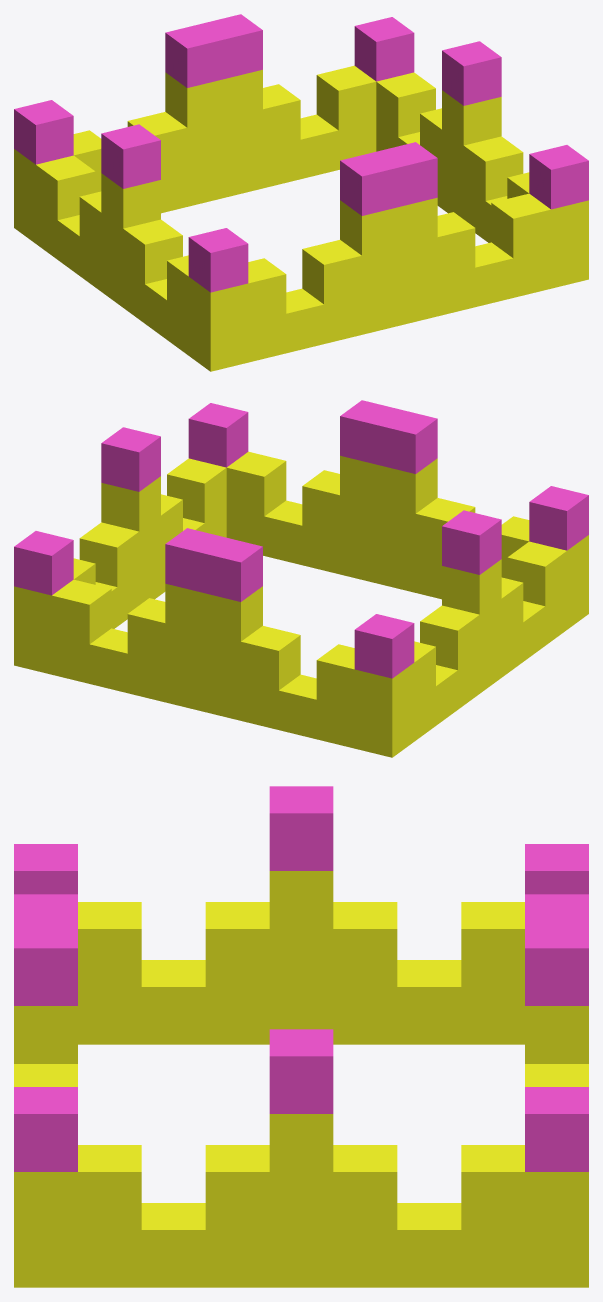
Rendered from HadaNivel5-1.obj.
3 views of the same model, one above another, from view 1: azimuth 30°, elevation 25°; view 2: azimuth 150°, elevation 25°; view 3: azimuth 270°, elevation 25° (orthographic). The views are drawn at different scales.
Bounding box in the file's own units: 1 × 0.4 × 0.9.
1 material, 1 textured.
